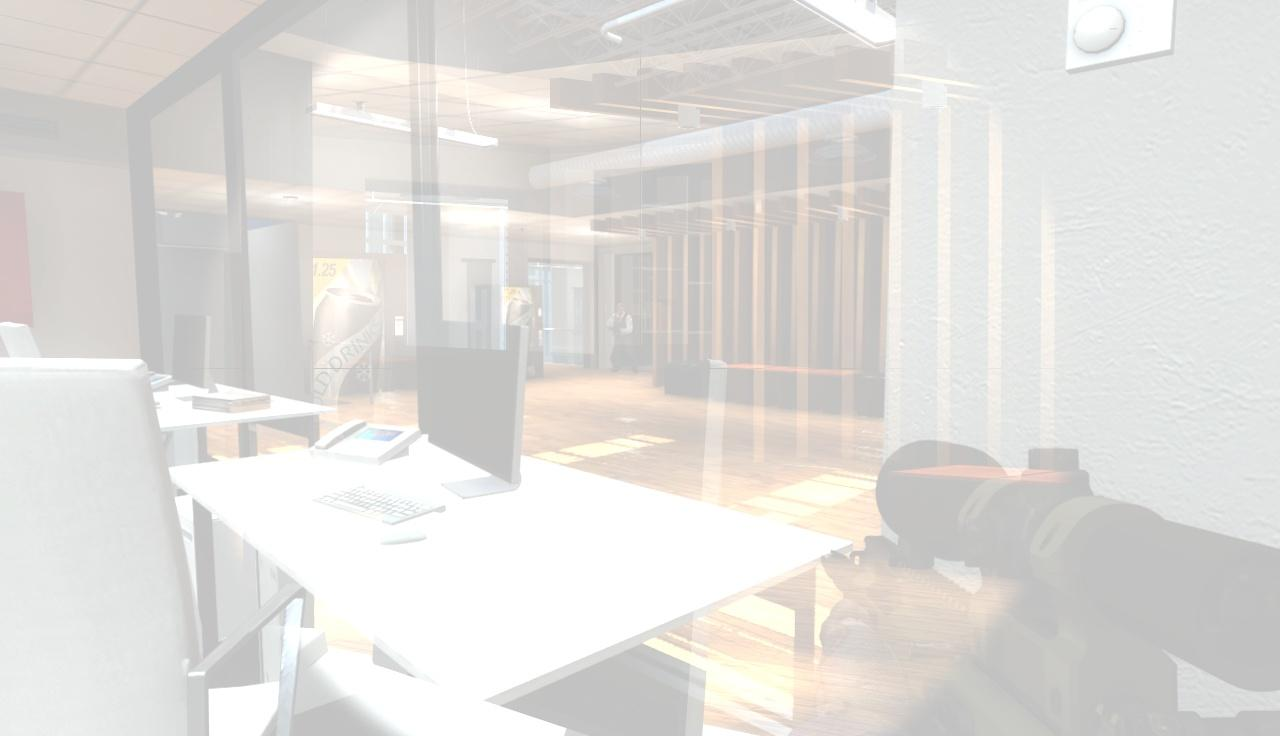ct: (607, 304, 634, 370)
cthead: (616, 303, 626, 315)
rifle: (815, 432, 1280, 736)
